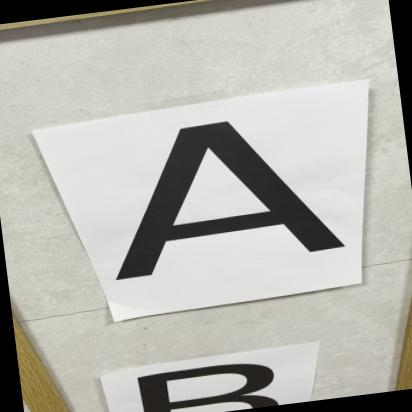seat: (76, 98, 360, 300)
